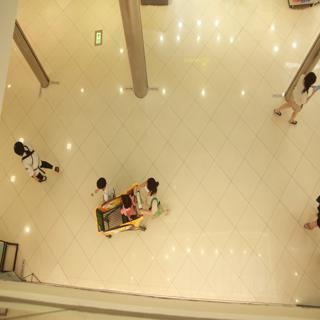person: (268, 58, 317, 126), (7, 135, 63, 187), (129, 174, 167, 229), (89, 174, 119, 199)
